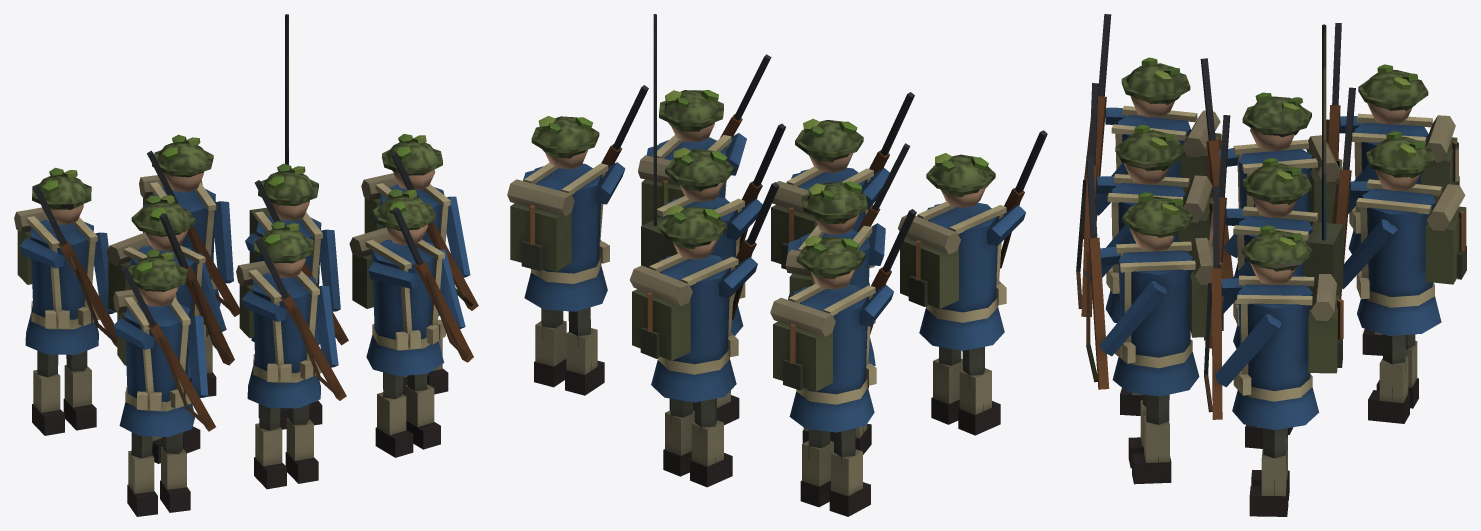
Rendered from squad_dl6_blue.glb.
The picture shows the model from 3 angles, left to right: view 1: azimuth 30°, elevation 25°; view 2: azimuth 150°, elevation 25°; view 3: azimuth 270°, elevation 25°; orthographic projection. The views are drawn at different scales.
Visible parts, largest first — view 1: squad_dl6_blue; view 2: squad_dl6_blue; view 3: squad_dl6_blue.
Boxes of the visible parts, x1,y1,x2,y2 form: squad_dl6_blue: [14, 14, 478, 516]; squad_dl6_blue: [507, 14, 1047, 516]; squad_dl6_blue: [1076, 14, 1466, 516].
Bounding box in the file's own units: 0.6566 × 0.589 × 0.4939.
1 material, 1 textured.
